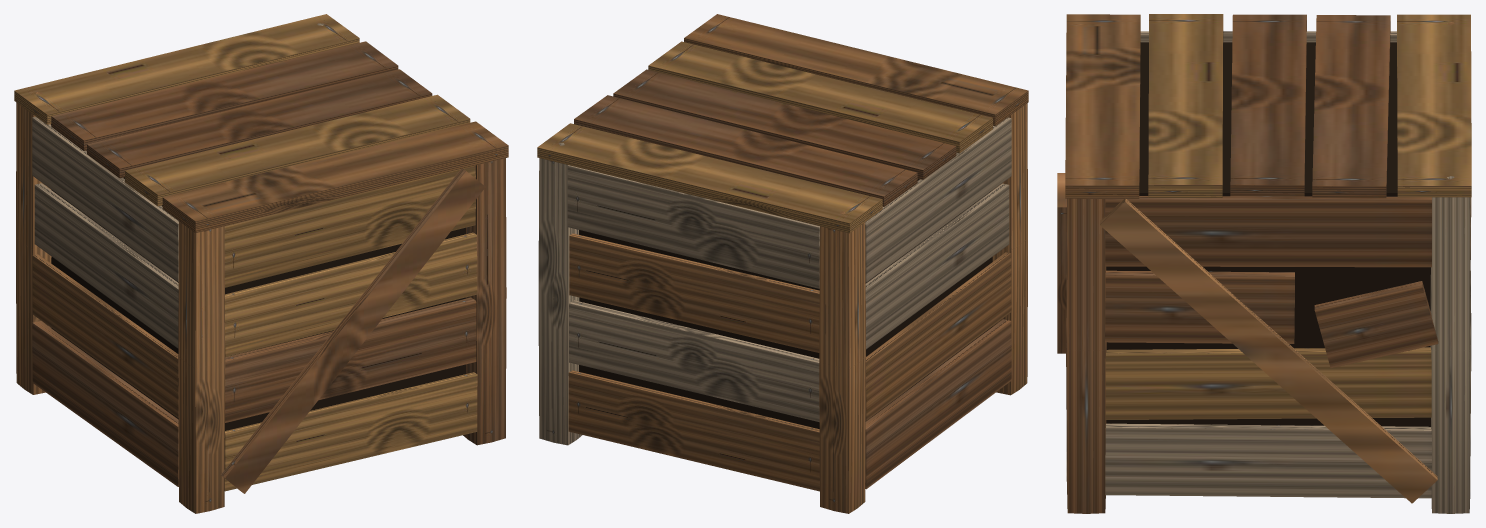
The model's file is prop_soft_crate.glb.
3 views of the same model, side by side, from view 1: azimuth 30°, elevation 25°; view 2: azimuth 150°, elevation 25°; view 3: azimuth 270°, elevation 25° (orthographic). The views are drawn at different scales.
Visible parts, largest first — view 1: prop_soft_crate_body; view 2: prop_soft_crate_body; view 3: prop_soft_crate_body.
Boxes of the visible parts, x1=… form: prop_soft_crate_body: x1=14, y1=14, x2=508, y2=513; prop_soft_crate_body: x1=537, y1=14, x2=1028, y2=513; prop_soft_crate_body: x1=1057, y1=14, x2=1471, y2=513.
Size of the model in its own units: 0.7583 by 0.6653 by 0.7567.
Materials: 1 (1 with a texture image).
